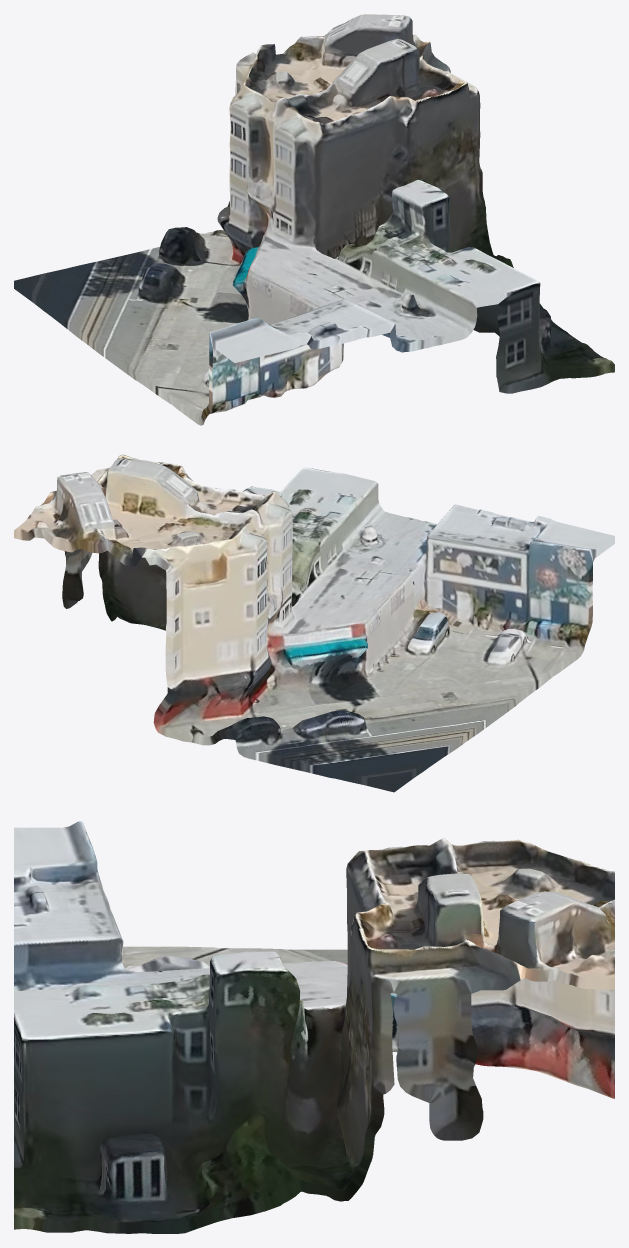
File: z20-167731-405192-h0-yup-uvflip-v3-world.glb
3 renders of one model, top to bottom at view 1: azimuth 30°, elevation 25°; view 2: azimuth 150°, elevation 25°; view 3: azimuth 270°, elevation 25°, orthographic. The views are drawn at different scales.
Size of the model in its own units: 30.16 by 17.16 by 30.32.
1 material, 1 textured.
